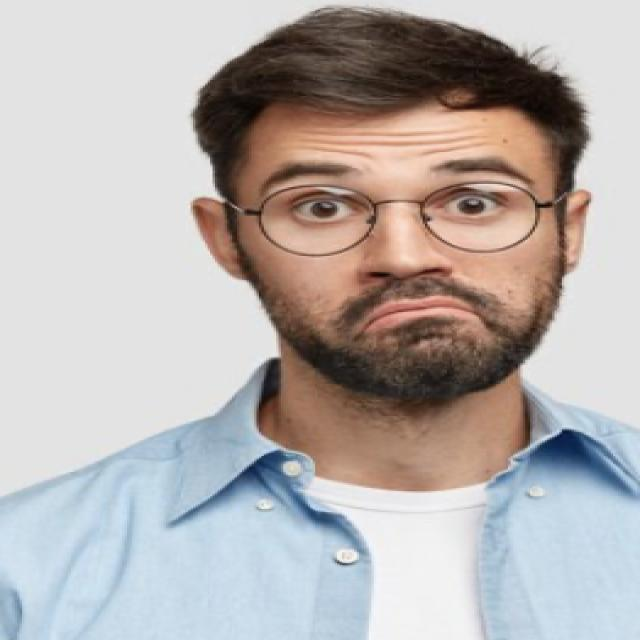sad: (243, 111, 543, 354)
